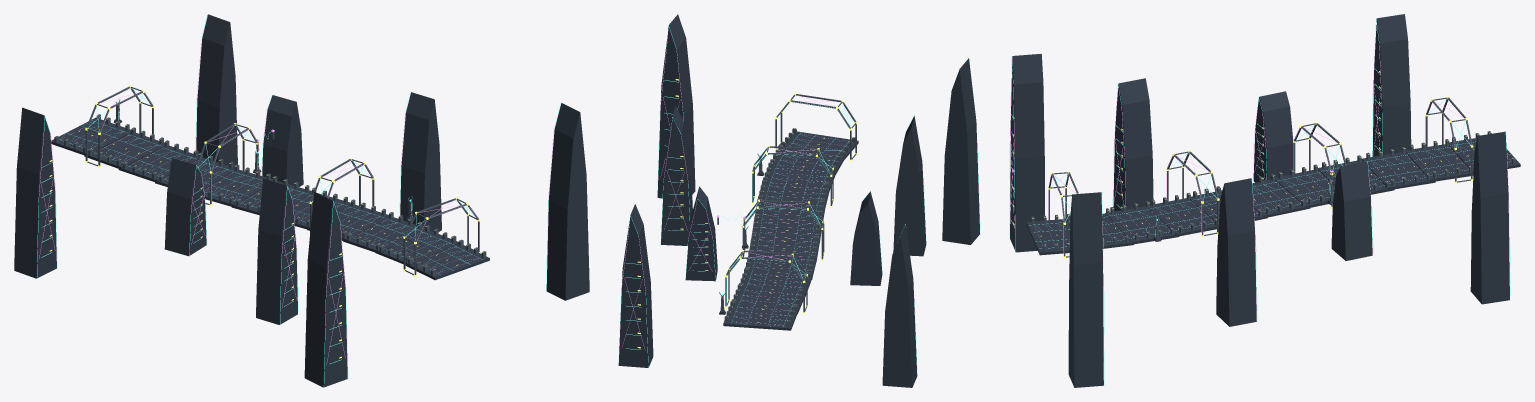
Rendered from route_batch_16.glb.
3 views of the same model, side by side, from view 1: azimuth 30°, elevation 25°; view 2: azimuth 150°, elevation 25°; view 3: azimuth 270°, elevation 25° (orthographic). The views are drawn at different scales.
Visible parts, largest first — view 1: route_batch_16; view 2: route_batch_16; view 3: route_batch_16.
Part boxes in pixels (x1,y1,x2,y2): route_batch_16: (14,14,589,387); route_batch_16: (618,14,980,387); route_batch_16: (1009,14,1520,387).
Size of the model in its own units: 694 by 292 by 719.
